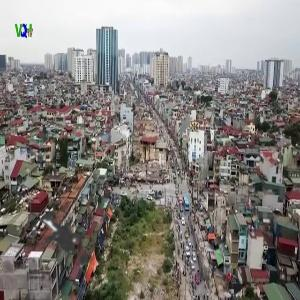drone: (4, 170, 133, 299)
